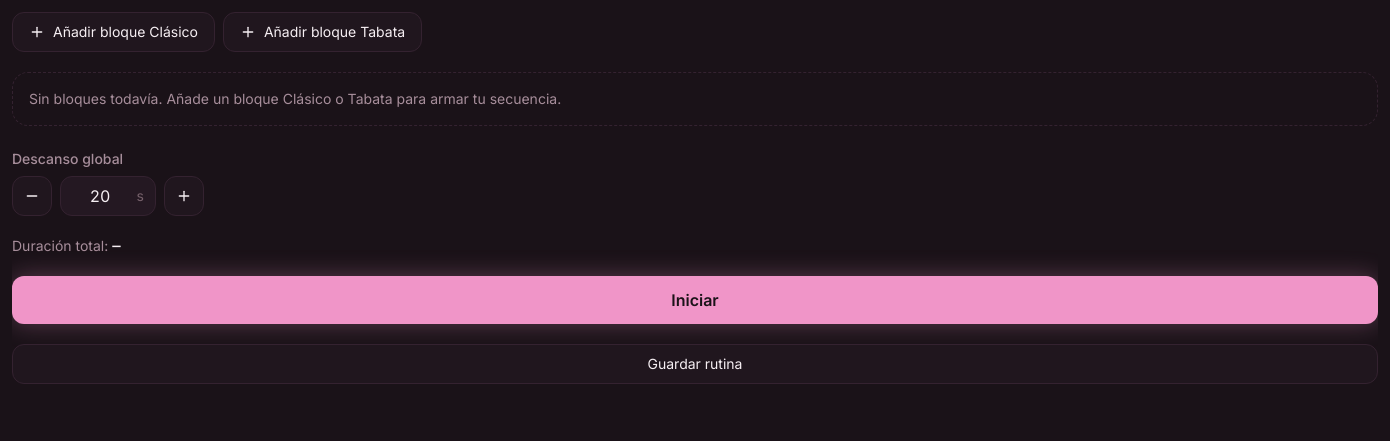
Test case: PersonalizadoBuilder — secuencia vacía (spec «Empty sequence is rejected») › rechaza iniciar con cero bloques: error español visible y sin sesión
Click the button "Iniciar" at (695, 300), box [12, 276, 1378, 324]
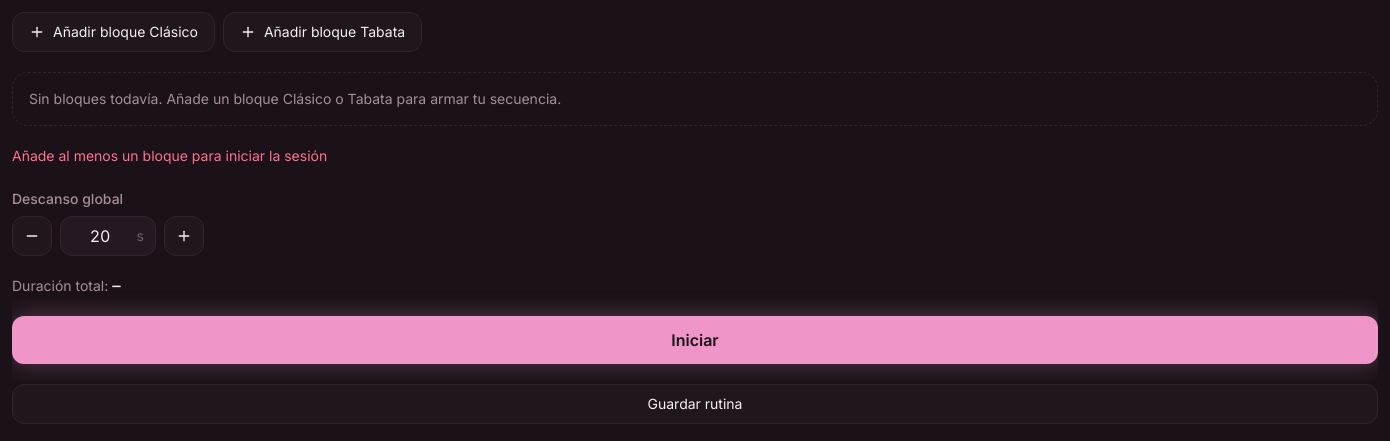
Check: the text "Añade al menos un bloque para iniciar la sesión" is shown, box [12, 147, 327, 164]
